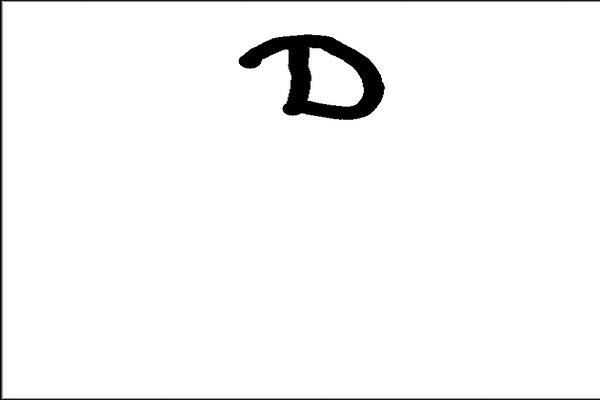D: (232, 25, 393, 125)
